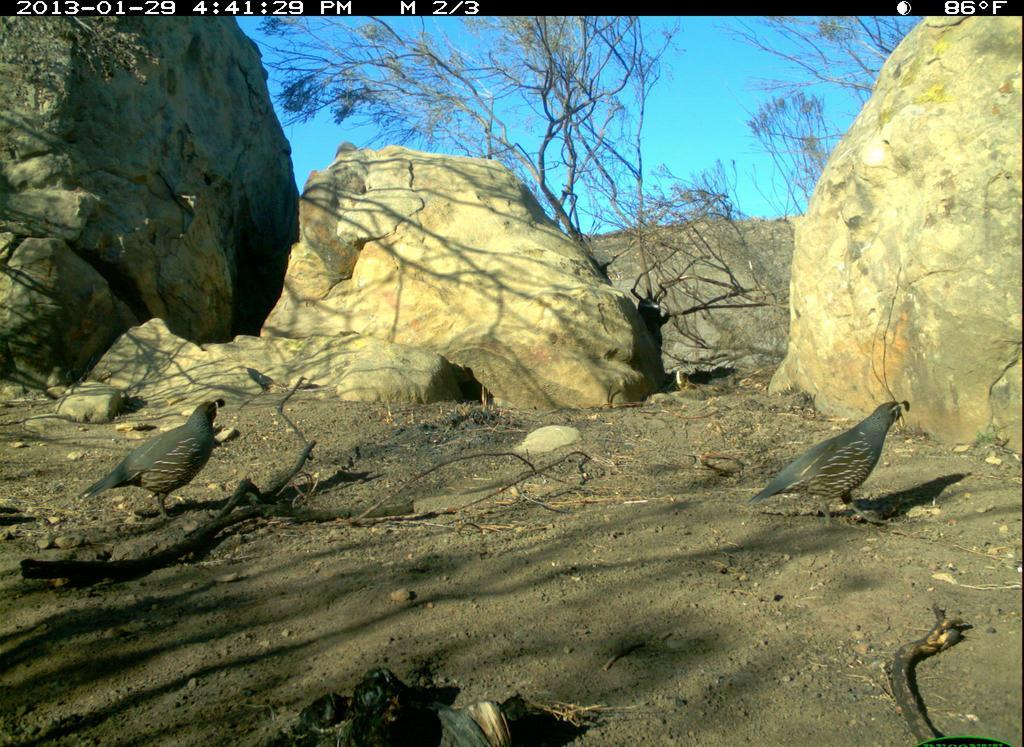bird: (731, 396, 937, 536), (84, 379, 237, 524)
